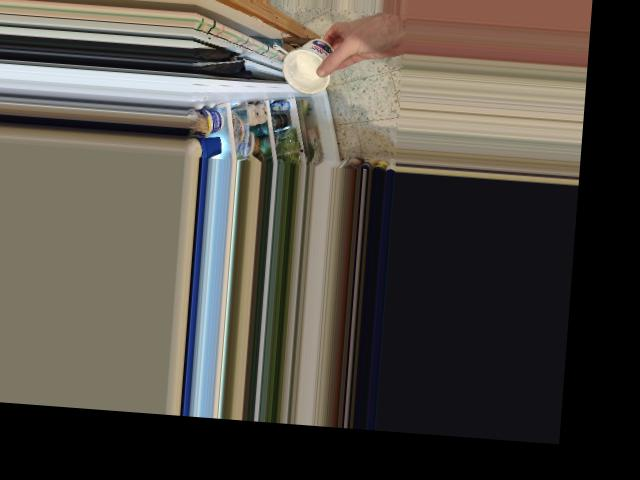cotage: (277, 32, 339, 94)
